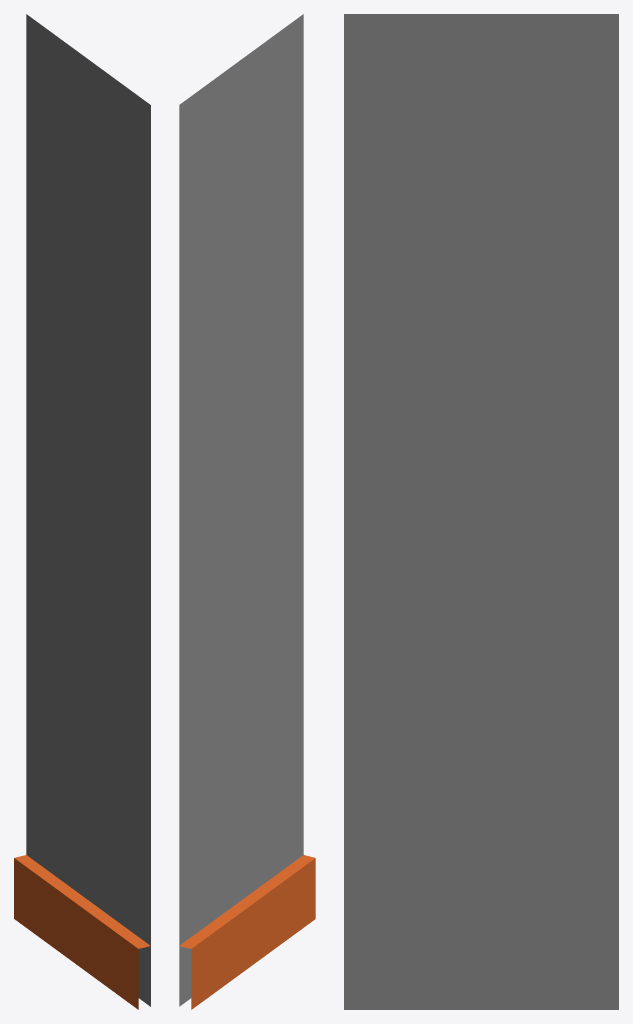
The model's file is ModuleD_wall1.FBX.
The picture shows the model from 3 angles, left to right: view 1: azimuth 30°, elevation 25°; view 2: azimuth 150°, elevation 25°; view 3: azimuth 270°, elevation 25°; orthographic projection. The views are drawn at different scales.
Visible parts, largest first — view 1: ModuleD_wall_05, ModuleD_skboard_07; view 2: ModuleD_wall_05, ModuleD_skboard_07; view 3: ModuleD_wall_05.
Boxes of the visible parts, left/top/right/bottom form: ModuleD_wall_05: left=26, top=14, right=150, bottom=1006; ModuleD_skboard_07: left=14, top=855, right=150, bottom=1009; ModuleD_wall_05: left=179, top=14, right=303, bottom=1006; ModuleD_skboard_07: left=179, top=855, right=315, bottom=1009; ModuleD_wall_05: left=344, top=14, right=618, bottom=1009.
Bounding box in the file's own units: 1.12 × 19.69 × 78.74.
